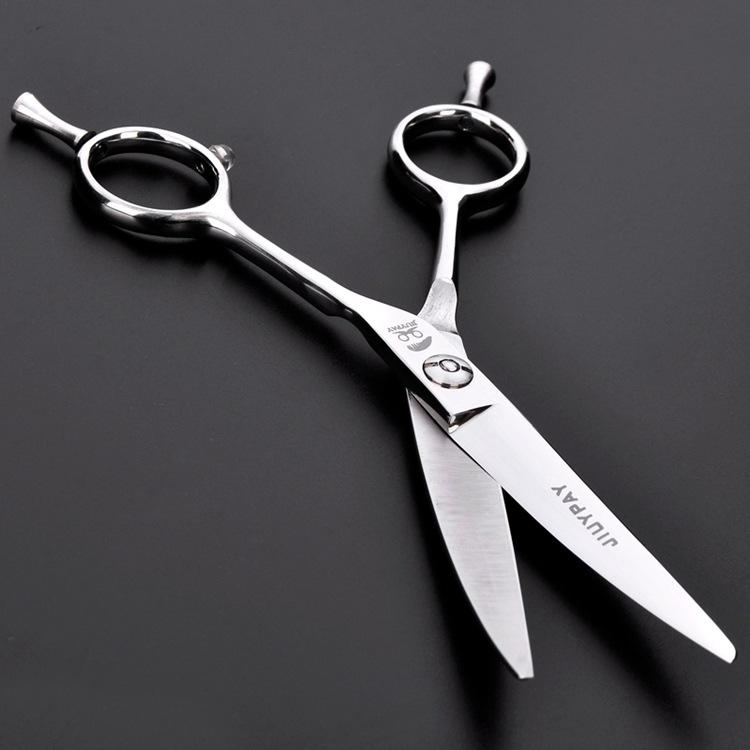scissor: (109, 34, 716, 710)
